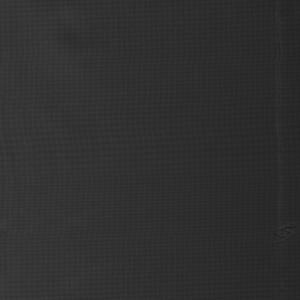Damage: (273, 220, 300, 253)
